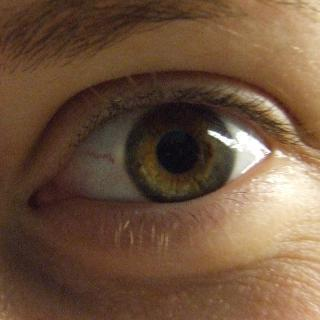pupil: (157, 130, 201, 174)
